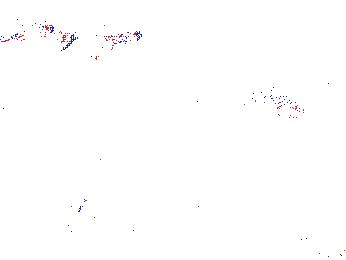glassfish: (66, 154, 107, 232)
red belly glassfish: (246, 88, 305, 118), (304, 81, 346, 98)
redtail glassfish: (58, 25, 145, 52), (1, 17, 57, 41)
